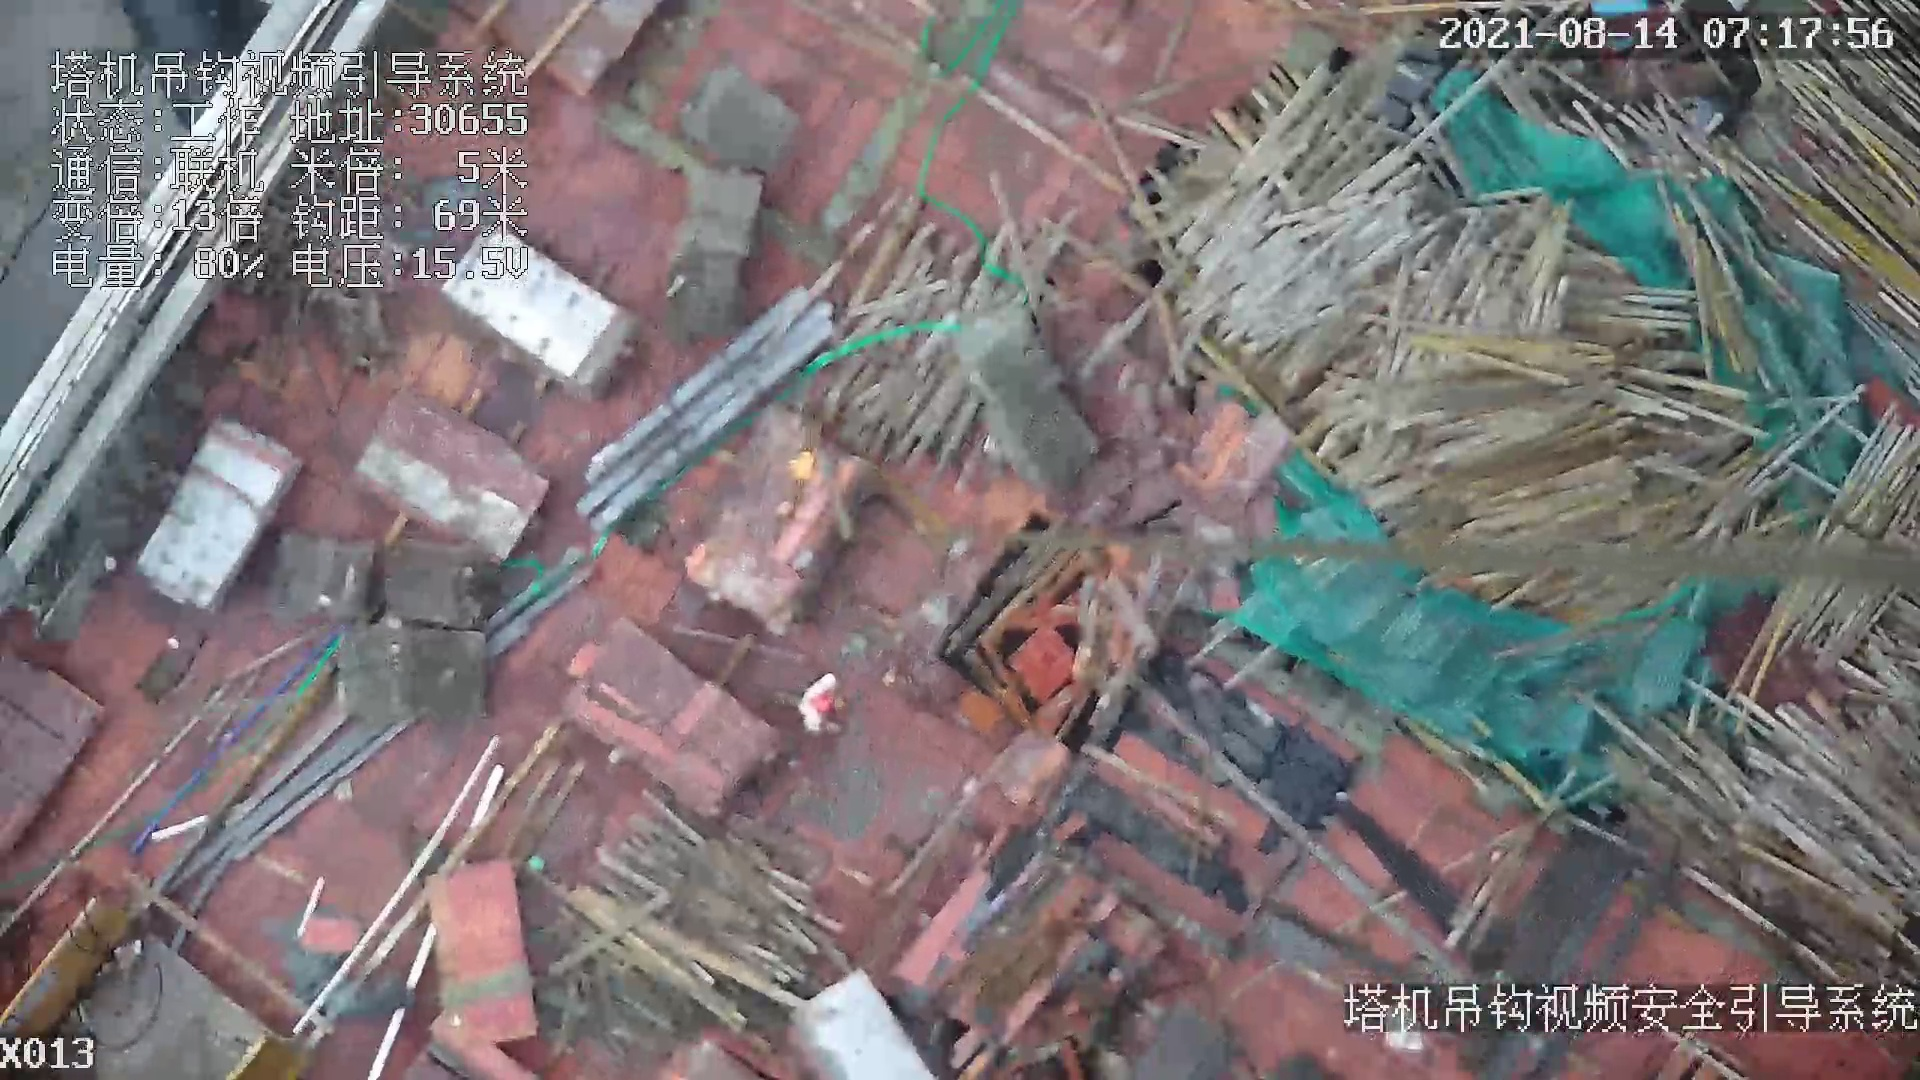helmet: (811, 686, 837, 713)
hook: (781, 410, 824, 531)
person: (790, 678, 849, 740)
